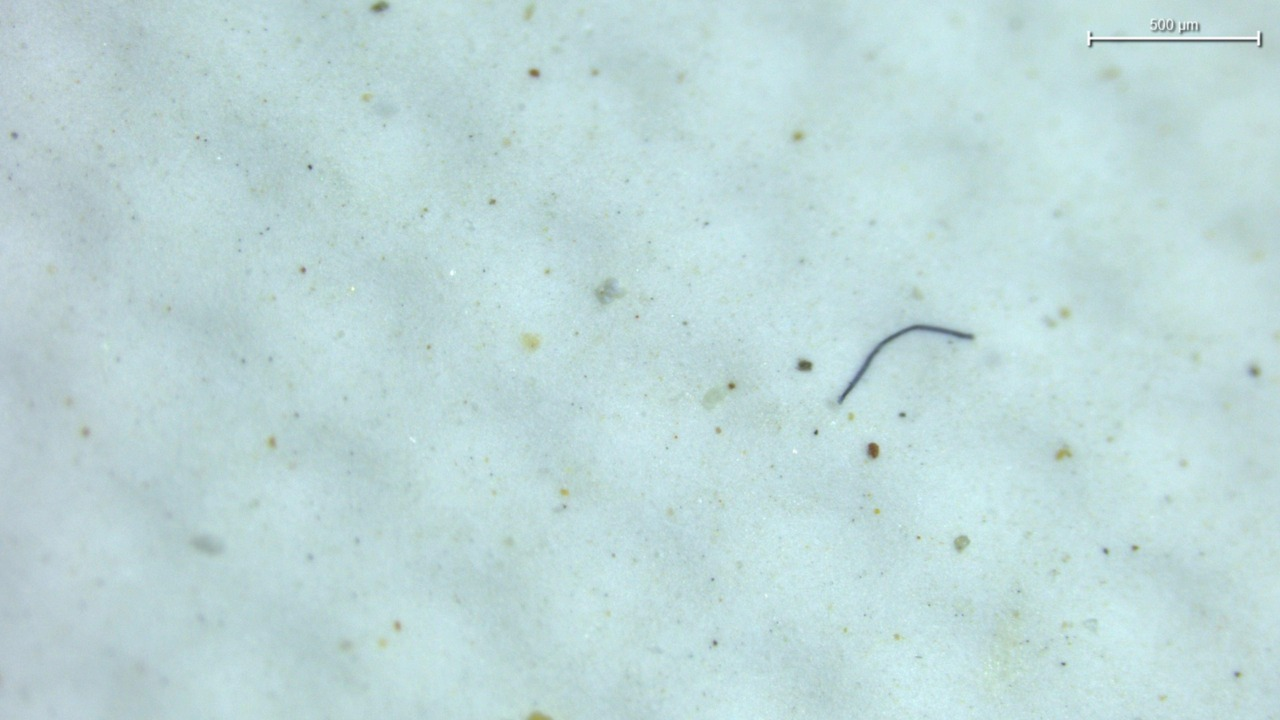microplastic_fragment: (594, 278, 624, 304)
